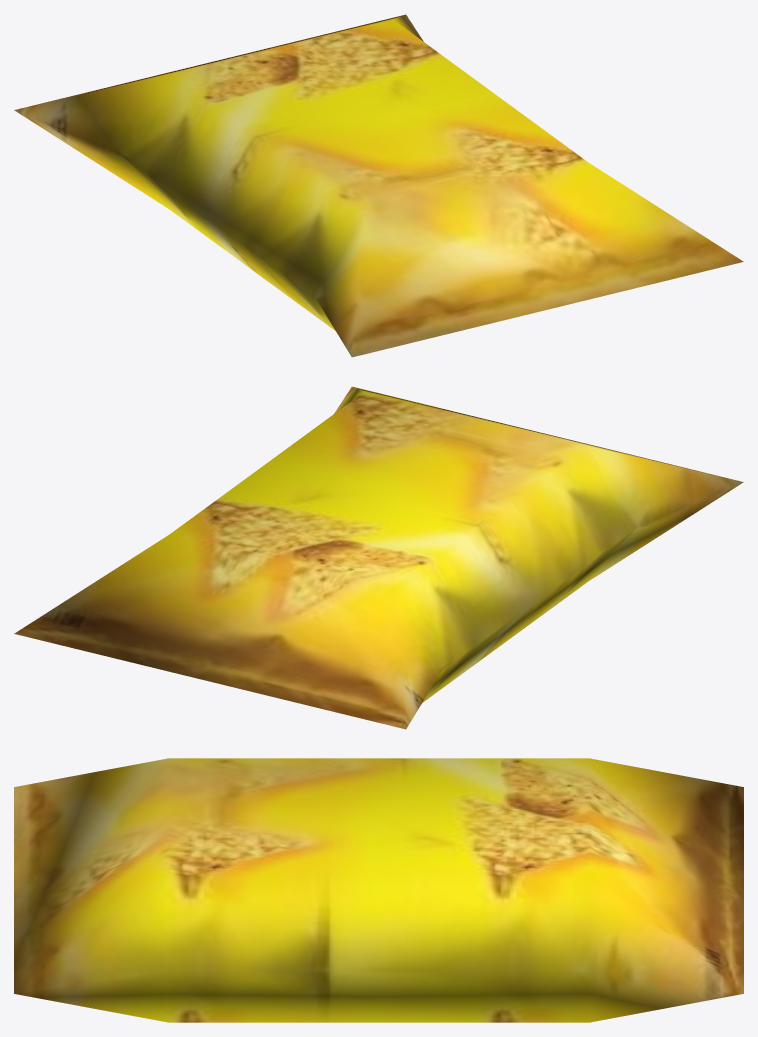
The model's file is Frying_01.glb.
The picture shows the model from 3 angles, top to bottom: view 1: azimuth 30°, elevation 25°; view 2: azimuth 150°, elevation 25°; view 3: azimuth 270°, elevation 25°; orthographic projection. The views are drawn at different scales.
Visible parts, largest first — view 1: Frying_01; view 2: Frying_01; view 3: Frying_01.
Boxes of the visible parts, x1,y1,x2,y2 form: Frying_01: (14, 14, 743, 357); Frying_01: (14, 386, 743, 729); Frying_01: (14, 758, 743, 1022).
Size of the model in its own units: 0.2306 by 0.0761 by 0.3442.
Materials: 1 (1 with a texture image).
